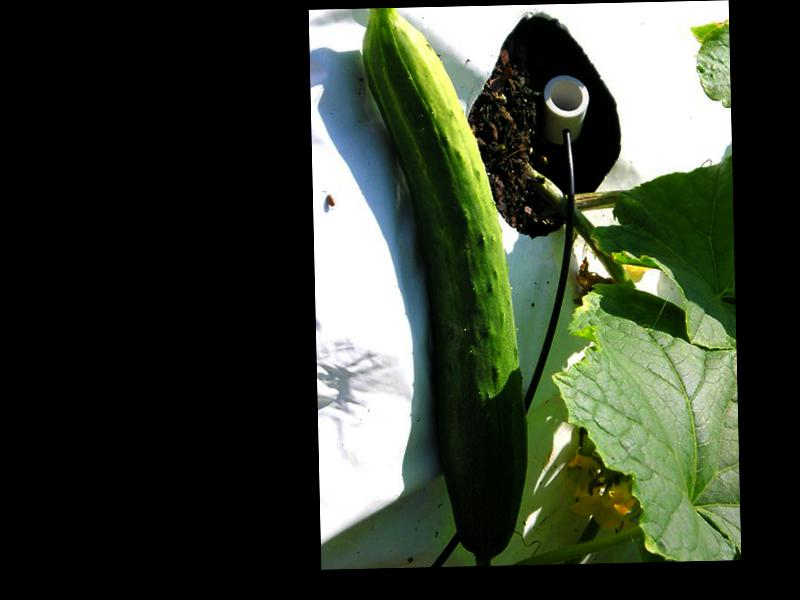Cucumber: (362, 5, 529, 565)
